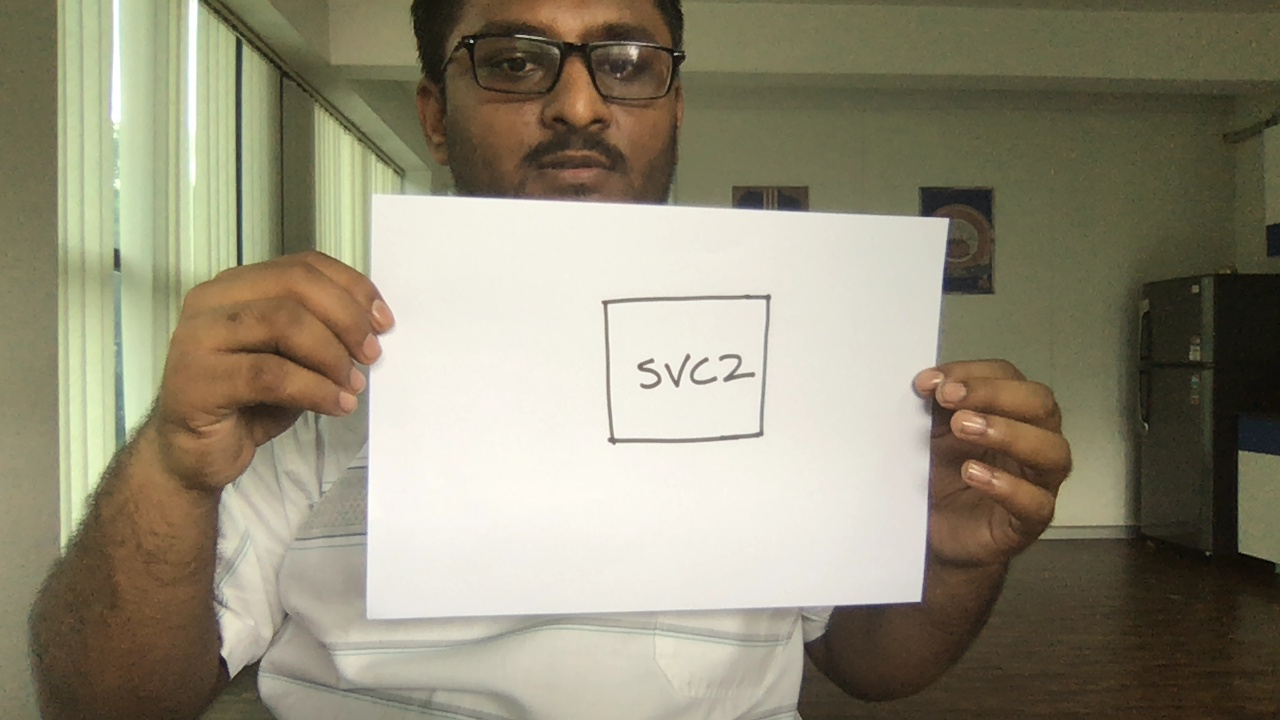ec2: (595, 289, 777, 453)
